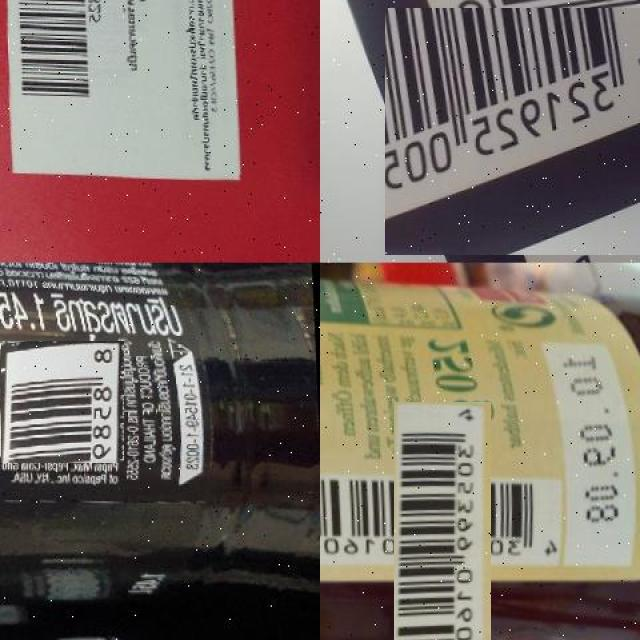Barcode: (389, 4, 640, 260), (357, 439, 528, 610), (0, 341, 124, 464), (11, 0, 109, 119)
